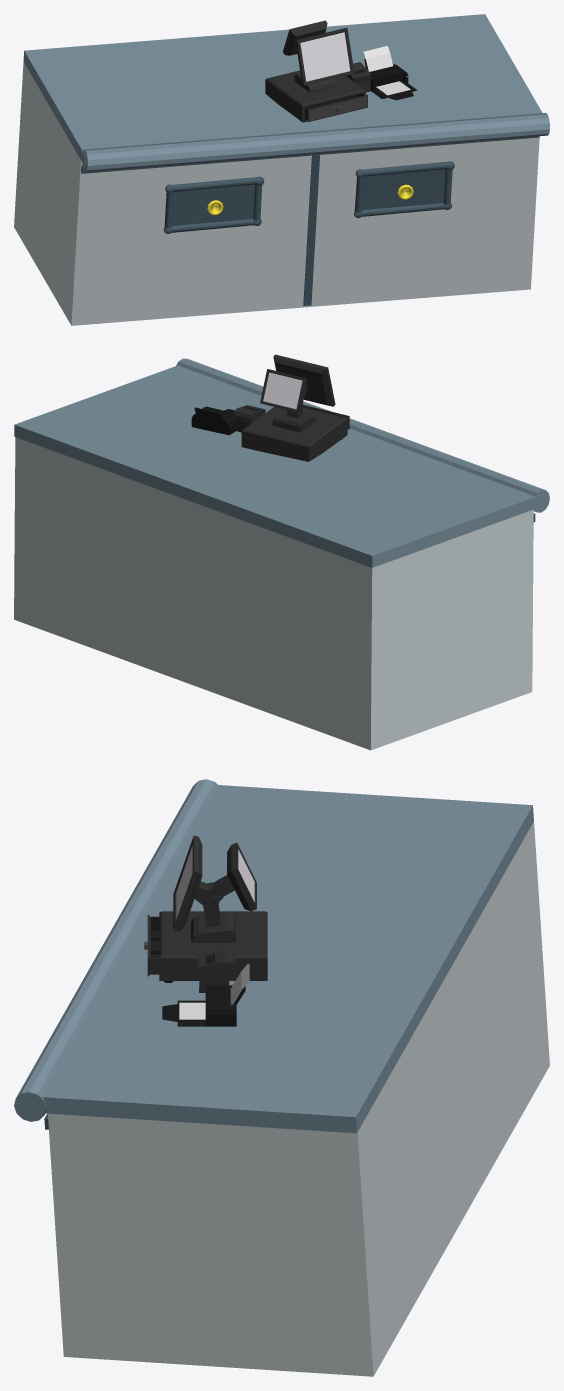
The model's file is reception_lvl4.glb.
3 views of the same model, one above another, from view 1: azimuth 30°, elevation 25°; view 2: azimuth 150°, elevation 25°; view 3: azimuth 270°, elevation 25° (orthographic). The views are drawn at different scales.
Parts seen in each view (by area): view 1: Node, PointOfSaleMachine, Printer, POSM_Drawer; view 2: Node, PointOfSaleMachine, Printer; view 3: Node, PointOfSaleMachine, Printer, POSM_Drawer.
Part boxes in pixels (x1,y1,x2,y2): Node: (14, 14, 549, 325); PointOfSaleMachine: (265, 20, 371, 122); Printer: (363, 46, 417, 100); POSM_Drawer: (305, 93, 367, 121); Node: (14, 358, 549, 750); PointOfSaleMachine: (233, 354, 347, 461); Printer: (191, 406, 236, 435); Node: (14, 779, 549, 1376); PointOfSaleMachine: (159, 835, 267, 992); Printer: (162, 964, 249, 1026); POSM_Drawer: (144, 915, 159, 976).
Size of the model in its own units: 2.53 by 1.4 by 1.76.
9 materials, 1 textured.
